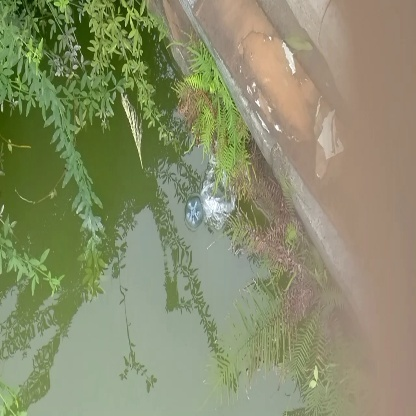bottle: (183, 192, 205, 231)
plastic-bag: (206, 159, 246, 234)
